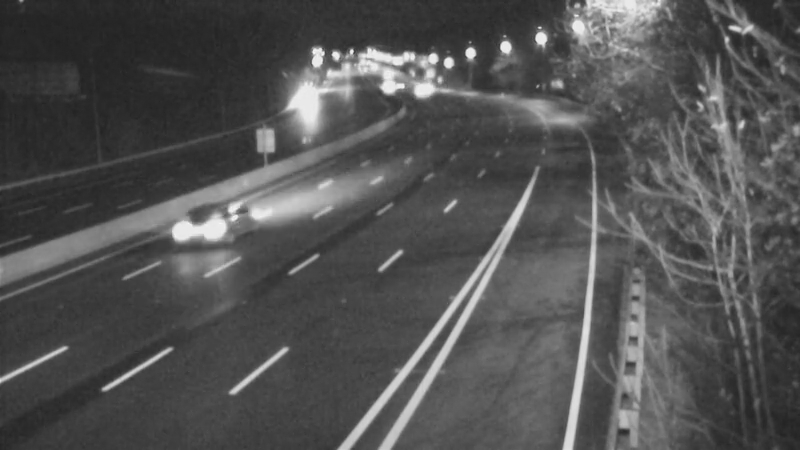vehicle: (159, 190, 239, 270)
